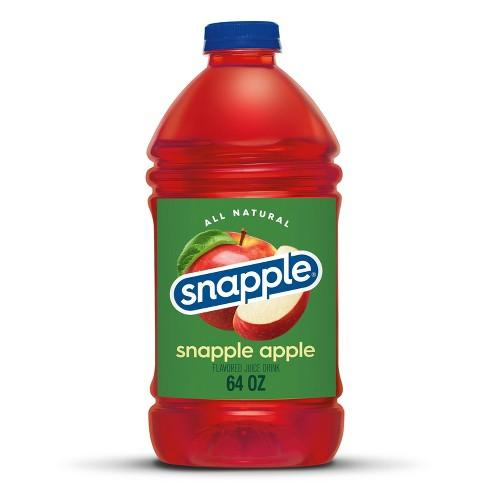juice: (124, 14, 355, 474)
